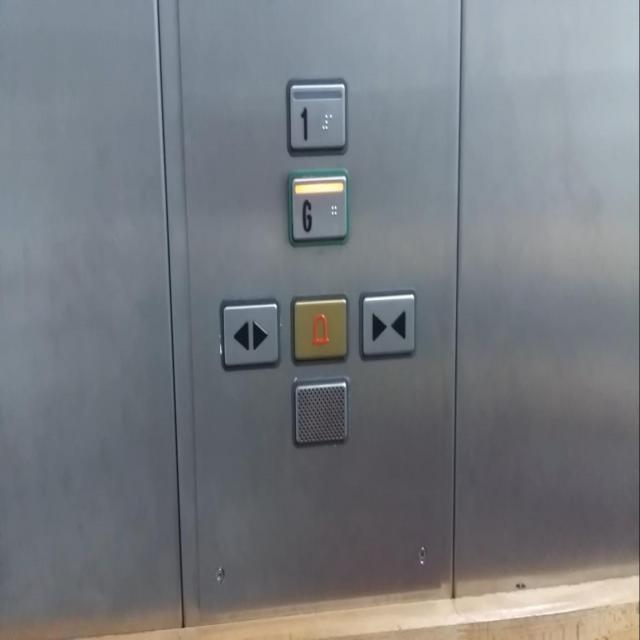1: (286, 78, 347, 152)
G: (288, 168, 348, 244)
alarm: (290, 290, 349, 365)
close: (358, 289, 416, 359)
open: (220, 297, 282, 371)
speaker: (292, 376, 350, 451)
